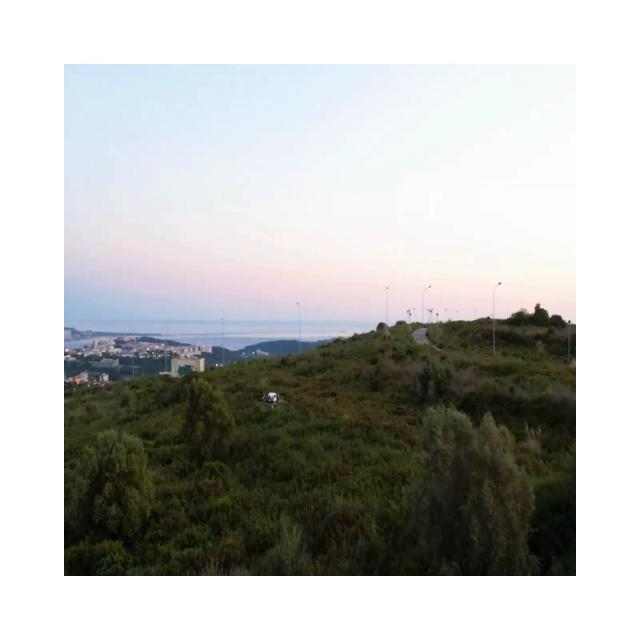drone: (257, 388, 287, 408)
